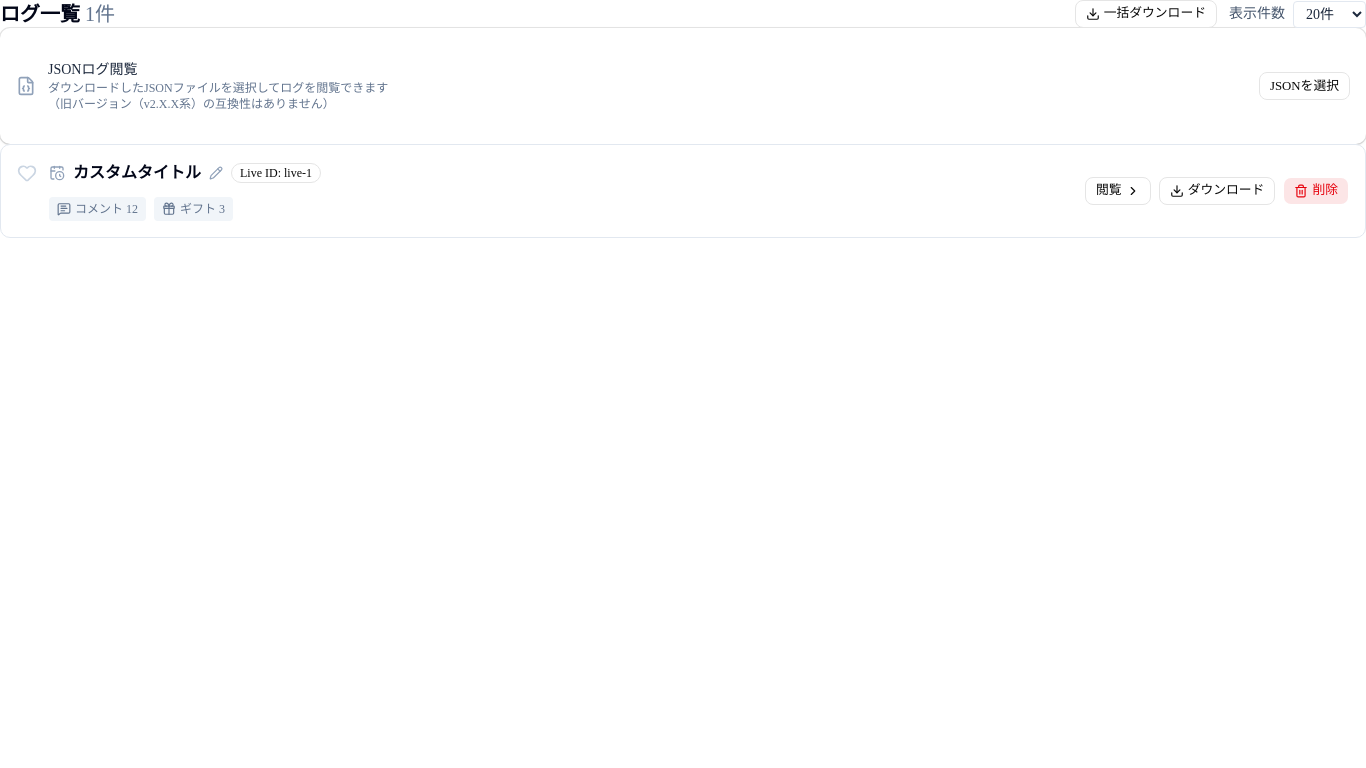
Test: LogListPage › タイトルありのログを削除するとダイアログにタイトルが表示される
The image size is (1366, 768).
Click the button "削除": (1316, 191) [1283, 177, 1349, 205]
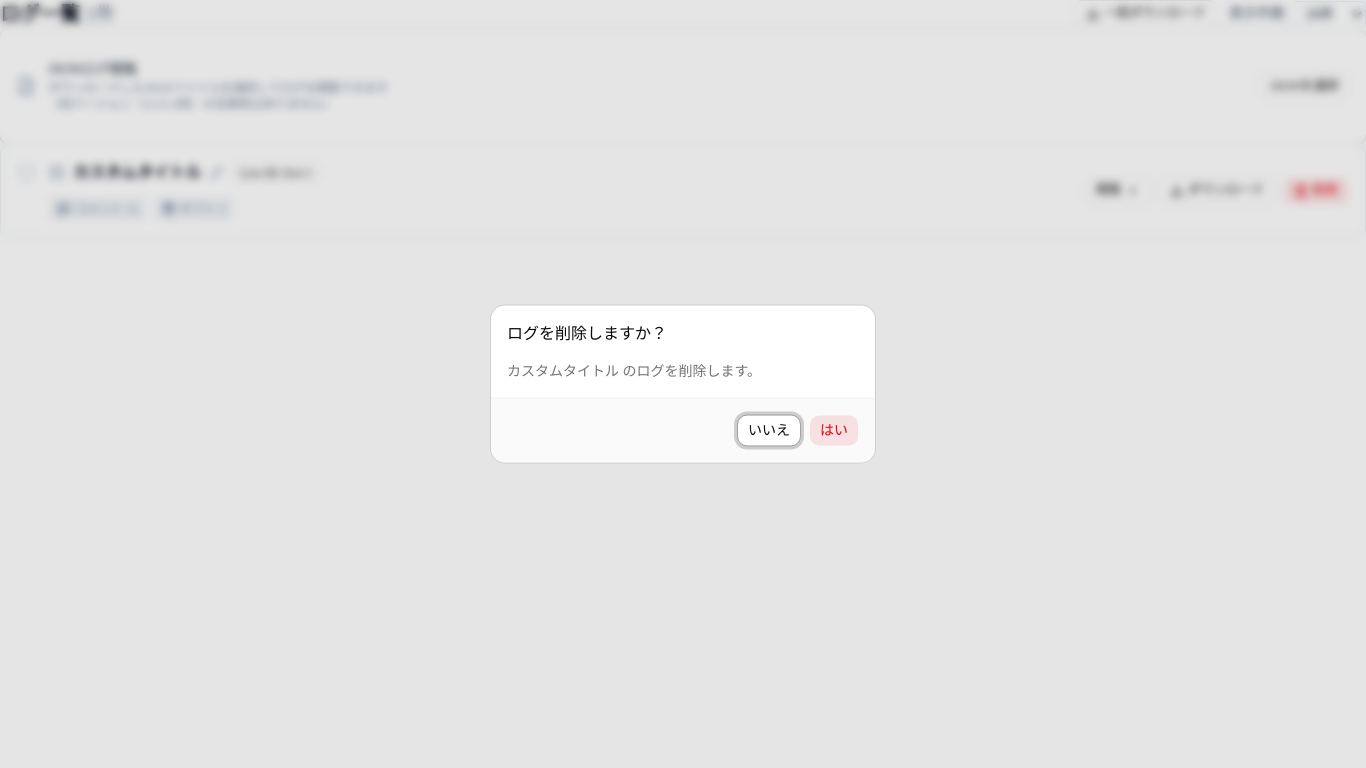
Check: the text "カスタムタイトル のログを削除します。" is shown, box [507, 364, 761, 378]
